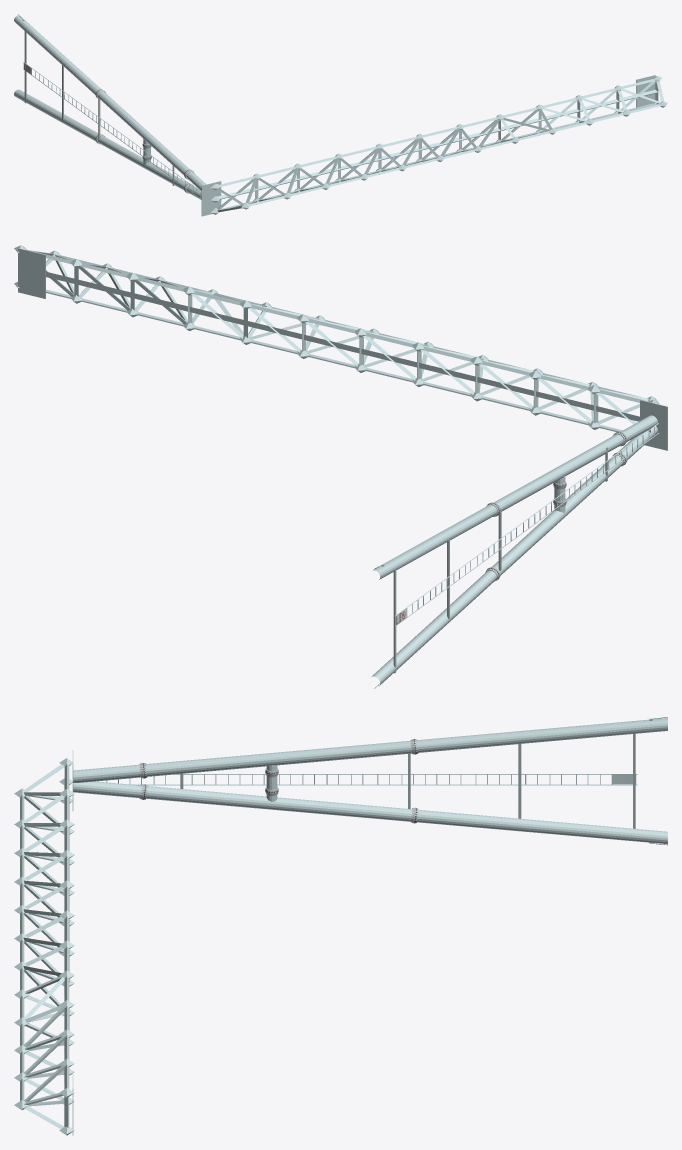
The model's file is jg-lmj-060-geode.glb.
3 views of the same model, one above another, from view 1: azimuth 30°, elevation 25°; view 2: azimuth 150°, elevation 25°; view 3: azimuth 270°, elevation 25° (orthographic). The views are drawn at different scales.
Parts seen in each view (by area): view 1: Node; view 2: Node; view 3: Node.
Boxes of the visible parts, x1,y1,x2,y2 form: Node: (14,15,667,216); Node: (14,245,667,688); Node: (14,717,667,1135).
Size of the model in its own units: 25.81 by 4.5 by 20.83.
7 materials, 7 textured.
